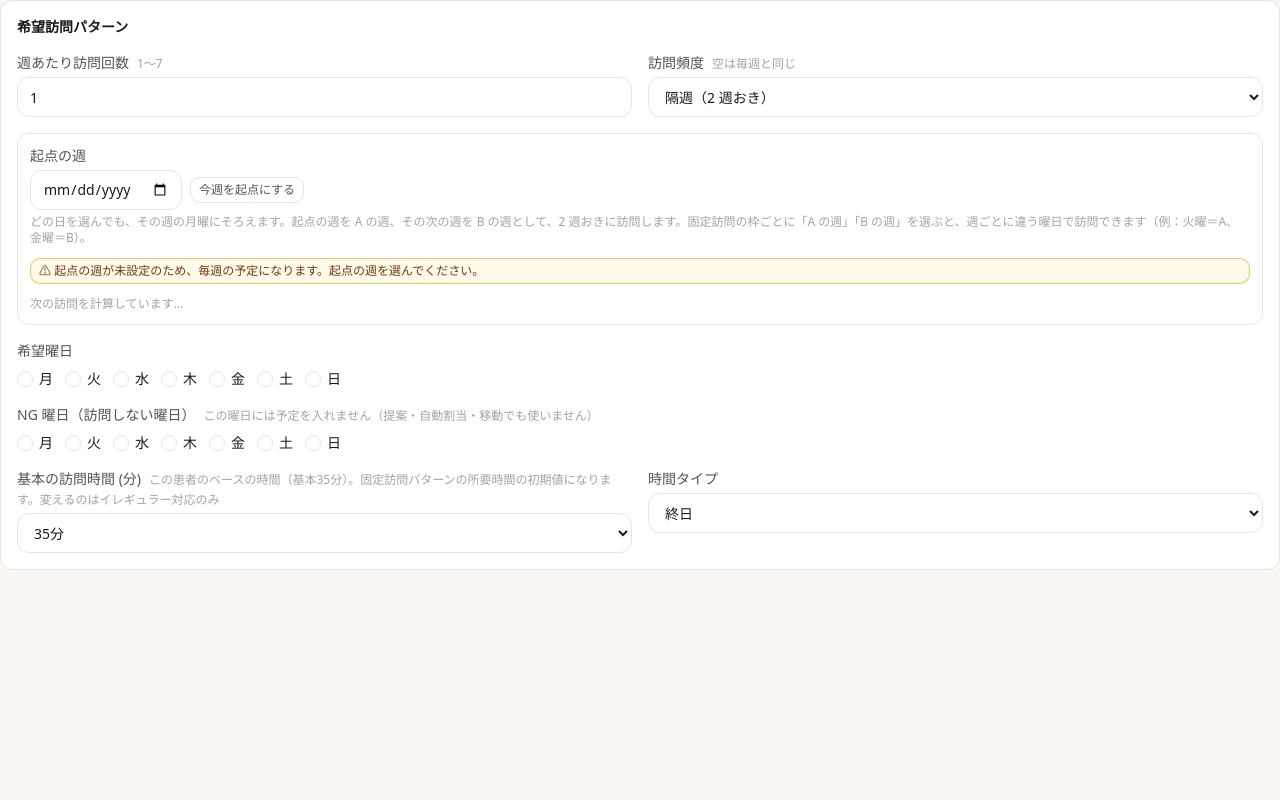
Test: WeeklyPatternEditor — 訪問頻度 › 隔週: 起点が無い間は注意書き → 水曜を選ぶと月曜にそろえて A の週と出し、注意書きを消す
The image size is (1280, 800).
Expected: the message with test id "visit-frequency-warning" reads "⚠ 起点の週が未設定のため、毎週の予定になります。起点の週を選んでください。", [30,258,1250,284]
Type "2026-11-04" into the date field named "起点の週" at (106, 190), box [30,170,182,210]
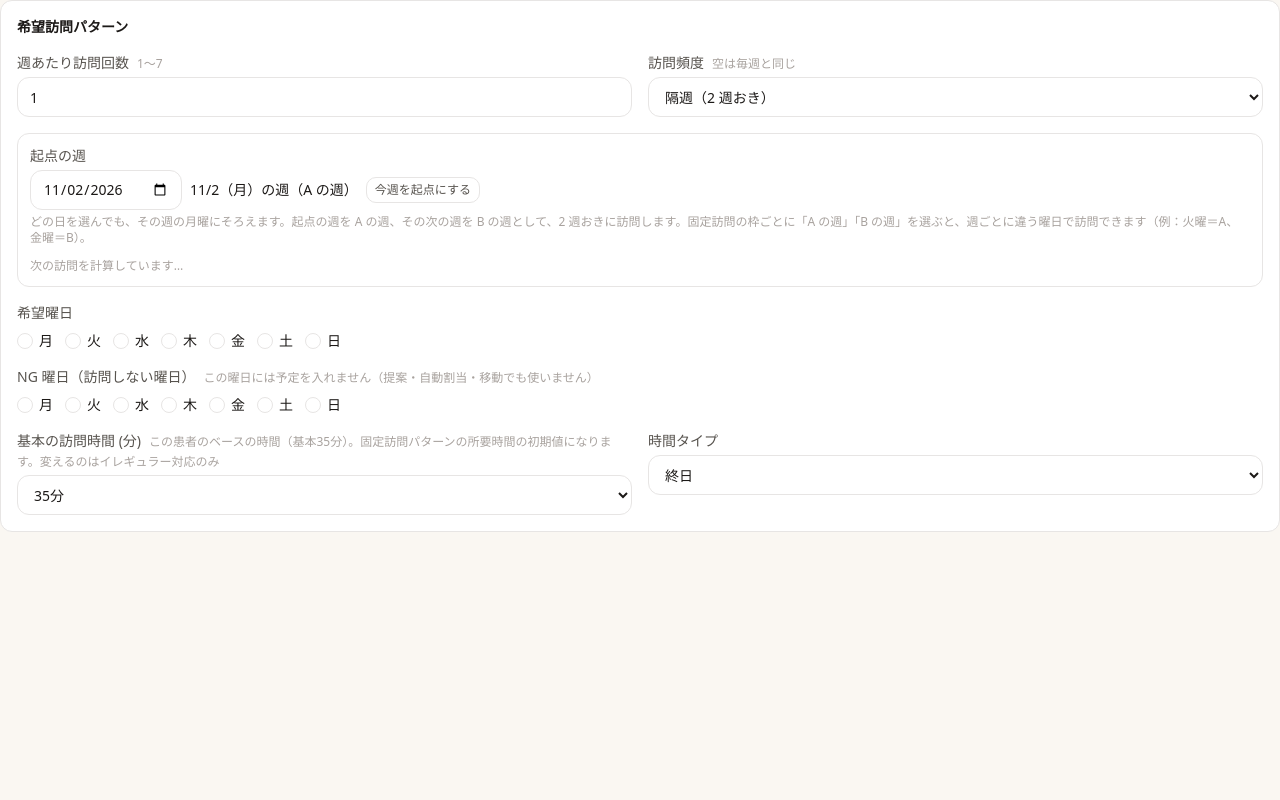
Expected: the text with test id "biweekly-anchor-label" reads "11/2（月）の週（A の週）", [190,180,358,200]
Expected: the message with test id "visit-frequency-warning" is gone
